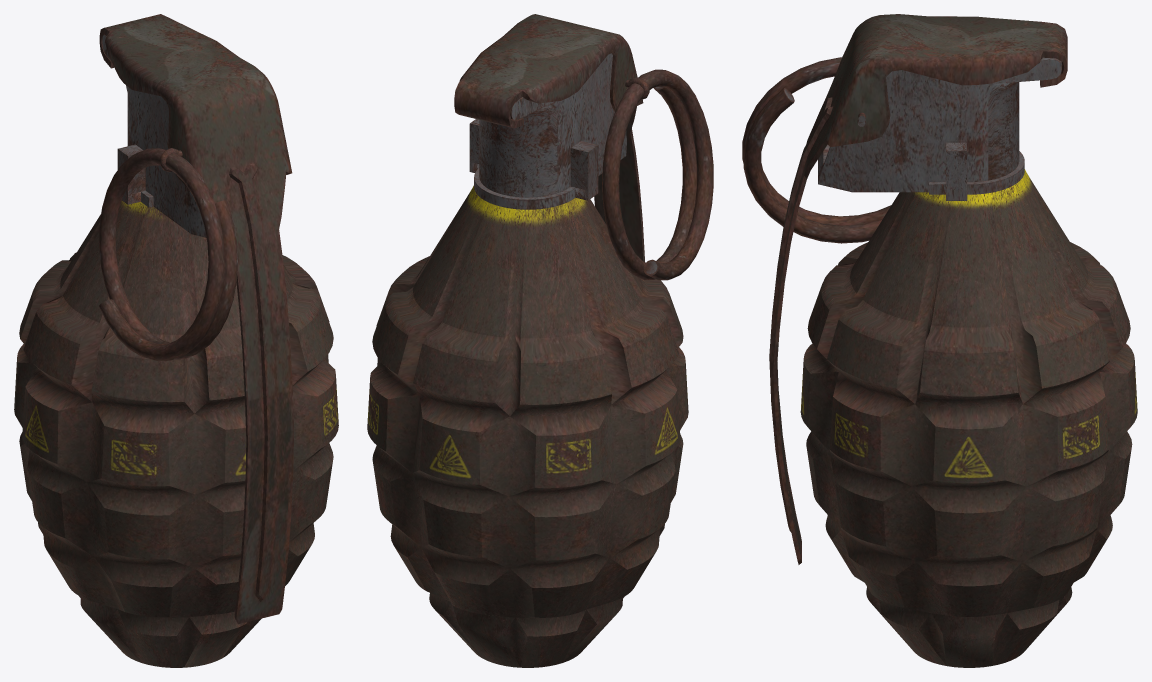
Rendered from mk2_grenade.glb.
3 renders of one model, left to right at view 1: azimuth 30°, elevation 25°; view 2: azimuth 150°, elevation 25°; view 3: azimuth 270°, elevation 25°, orthographic. The views are drawn at different scales.
Parts seen in each view (by area): view 1: base, cover, ring, metal; view 2: base, cover, metal, ring; view 3: base, cover, metal, ring.
Boxes of the visible parts, bbox=[...] form: base: bbox=[14, 200, 338, 667]; cover: bbox=[99, 14, 293, 624]; ring: bbox=[99, 148, 237, 361]; metal: bbox=[102, 34, 206, 237]; base: bbox=[367, 185, 688, 667]; cover: bbox=[454, 14, 644, 261]; metal: bbox=[469, 53, 626, 209]; ring: bbox=[602, 69, 713, 280]; base: bbox=[800, 169, 1137, 667]; cover: bbox=[769, 14, 1067, 564]; metal: bbox=[818, 57, 1061, 200]; ring: bbox=[742, 57, 891, 243].
Bounding box in the file's own units: 1 × 2 × 1.18.
1 material, 1 textured.
